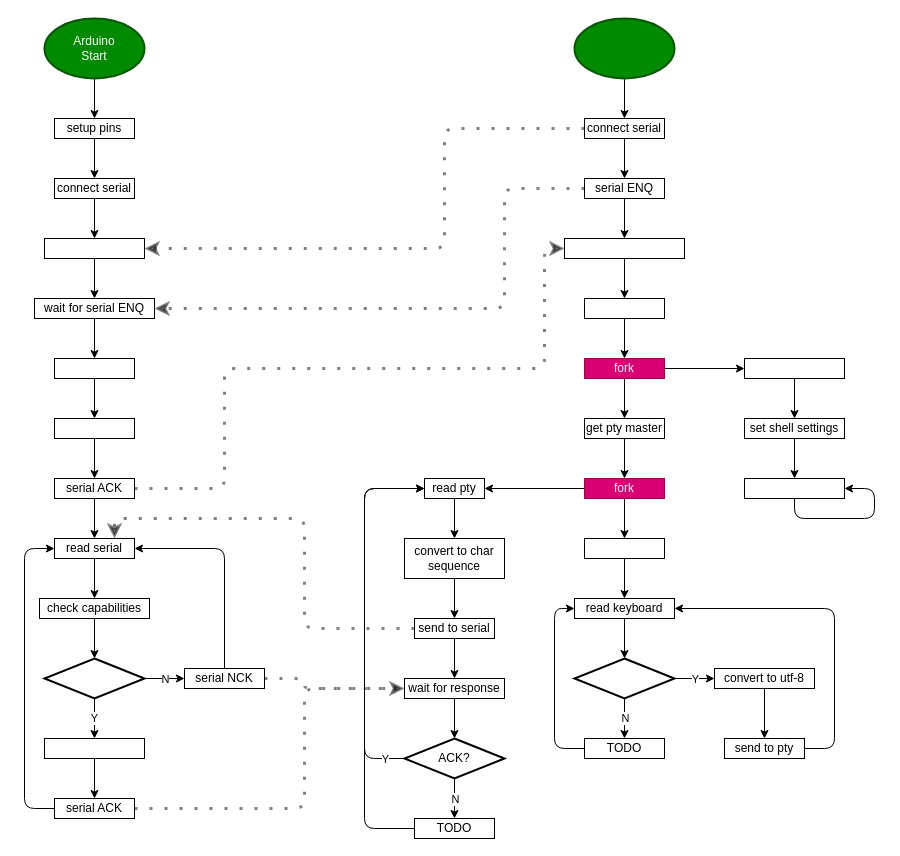
The diagram is 900 pixels wide and 856 high, and some of its shapes have lost their labels. The centre of each missing label's shape, as x and y in pixels:
"attach pty slave" belongs at (794,368).
"can print?" belongs at (94,678).
"codepoint?" belongs at (624,678).
"prepare ENV" belongs at (624,308).
"Raspi Start" belongs at (624,48).
"run shell" belongs at (794,488).
"send keystroke" belongs at (94,748).
"setup GPIO" belongs at (624,548).
"wait 10s (6s)" belongs at (94,428).
"wait for connect" belongs at (94,248).
"wait for scan" belongs at (94,368).
"wait for serial ACK" belongs at (624,248).
